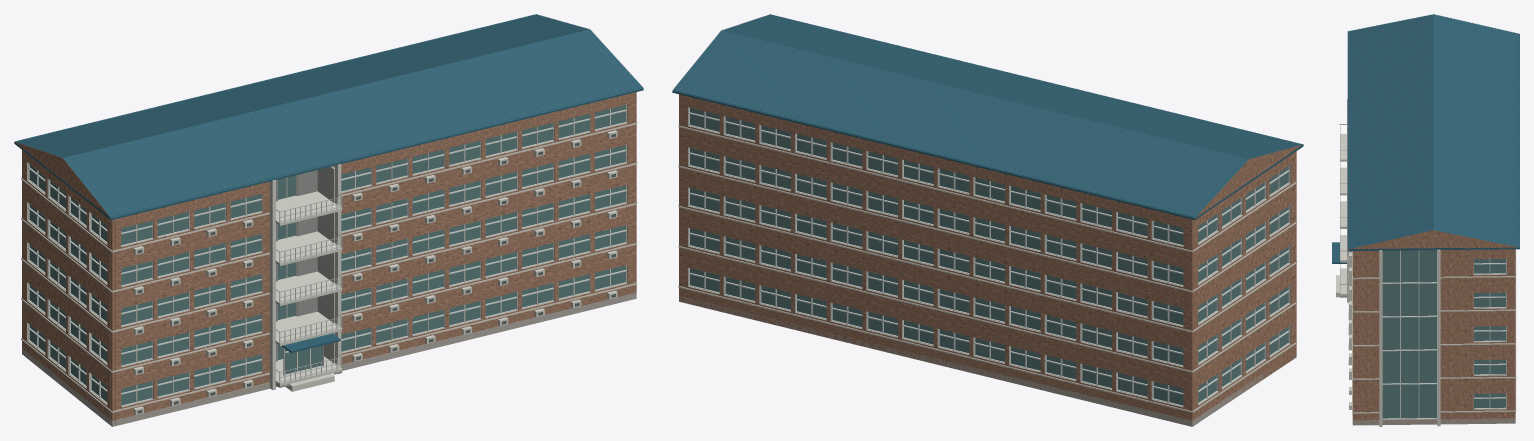
The picture shows the model from 3 angles, left to right: view 1: azimuth 30°, elevation 25°; view 2: azimuth 150°, elevation 25°; view 3: azimuth 270°, elevation 25°; orthographic projection. The views are drawn at different scales.
Parts seen in each view (by area): view 1: seyeon-1__brick, seyeon-1__gableRoofs, seyeon-1__roomGlass, seyeon-1__frame, seyeon-1__roofSeams, seyeon-1__balconySlabs, seyeon-1__storeyLedges, seyeon-1__reveal, seyeon-1__airUnits, seyeon-1__foundation, seyeon-1__coreUprights, seyeon-1__balconyDeepSideReturns (+9 smaller); view 2: seyeon-1__brick, seyeon-1__gableRoofs, seyeon-1__roomGlass, seyeon-1__frame, seyeon-1__storeyLedges, seyeon-1__roofSeams, seyeon-1__reveal, seyeon-1__foundation, seyeon-1__roofSoffit, seyeon-1__roofGutter, seyeon-1__gableEnds; view 3: seyeon-1__gableRoofs, seyeon-1__brick, seyeon-1__coreGlass, seyeon-1__roofSeams, seyeon-1__roomGlass, seyeon-1__frame, seyeon-1__coreUprights, seyeon-1__gableEnds, seyeon-1__storeyLedges, seyeon-1__roofGutter, seyeon-1__balconySlabs, seyeon-1__foundation (+3 smaller).
Part boxes in pixels (box(x1,y1,x2,y2)): seyeon-1__brick: box(22, 92, 636, 425); seyeon-1__gableRoofs: box(15, 14, 643, 218); seyeon-1__roomGlass: box(29, 105, 625, 405); seyeon-1__frame: box(28, 104, 626, 406); seyeon-1__roofSeams: box(21, 14, 643, 217); seyeon-1__balconySlabs: box(275, 191, 342, 385); seyeon-1__storeyLedges: box(21, 122, 637, 412); seyeon-1__reveal: box(27, 104, 627, 407); seyeon-1__airUnits: box(133, 130, 617, 415); seyeon-1__foundation: box(22, 292, 636, 426); seyeon-1__coreUprights: box(269, 164, 341, 389); seyeon-1__balconyDeepSideReturns: box(317, 166, 334, 363); seyeon-1__brick: box(679, 94, 1296, 425); seyeon-1__gableRoofs: box(672, 14, 1302, 217); seyeon-1__roomGlass: box(690, 108, 1288, 405); seyeon-1__frame: box(688, 107, 1289, 406); seyeon-1__storeyLedges: box(678, 125, 1297, 412); seyeon-1__roofSeams: box(673, 15, 1303, 217); seyeon-1__reveal: box(688, 107, 1290, 407); seyeon-1__foundation: box(679, 296, 1296, 426); seyeon-1__roofSoffit: box(672, 91, 1303, 219); seyeon-1__roofGutter: box(674, 15, 1301, 217); seyeon-1__gableEnds: box(1195, 144, 1302, 217); seyeon-1__gableRoofs: box(1347, 14, 1519, 249); seyeon-1__brick: box(1352, 249, 1515, 424); seyeon-1__coreGlass: box(1382, 250, 1436, 418); seyeon-1__roofSeams: box(1348, 14, 1519, 246); seyeon-1__roomGlass: box(1474, 259, 1505, 408); seyeon-1__frame: box(1382, 250, 1506, 419); seyeon-1__coreUprights: box(1347, 98, 1440, 426); seyeon-1__gableEnds: box(1348, 230, 1518, 249); seyeon-1__storeyLedges: box(1352, 249, 1516, 413); seyeon-1__roofGutter: box(1348, 31, 1519, 251); seyeon-1__balconySlabs: box(1340, 134, 1346, 296); seyeon-1__foundation: box(1352, 418, 1515, 425).
Size of the model in its own units: 45.29 by 18.97 by 16.45.
12 materials, 1 textured.
